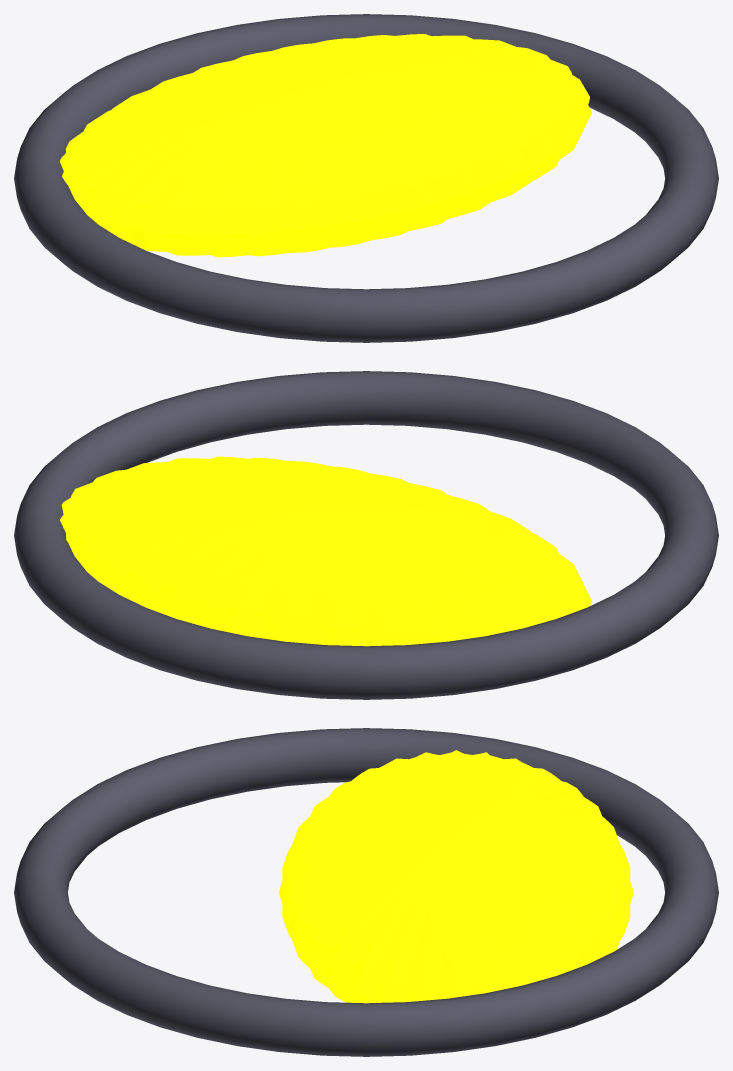
File: cyber_helmet_visor.glb
The picture shows the model from 3 angles, top to bottom: view 1: azimuth 30°, elevation 25°; view 2: azimuth 150°, elevation 25°; view 3: azimuth 270°, elevation 25°; orthographic projection.
Visible parts, largest first — view 1: Cylinder, Torus; view 2: Torus, Cylinder; view 3: Torus, Cylinder.
Part boxes in pixels (bbox=[...]): Cylinder: bbox=[60, 34, 591, 257]; Torus: bbox=[14, 14, 718, 342]; Torus: bbox=[14, 371, 718, 699]; Cylinder: bbox=[60, 456, 591, 646]; Torus: bbox=[14, 728, 718, 1056]; Cylinder: bbox=[279, 750, 633, 1003].
Bounding box in the file's own units: 0.314 × 0.0615 × 0.314.
